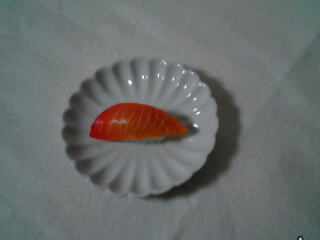002_classes: (88, 100, 192, 146)
